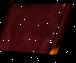scratch: (0, 0, 72, 62)
